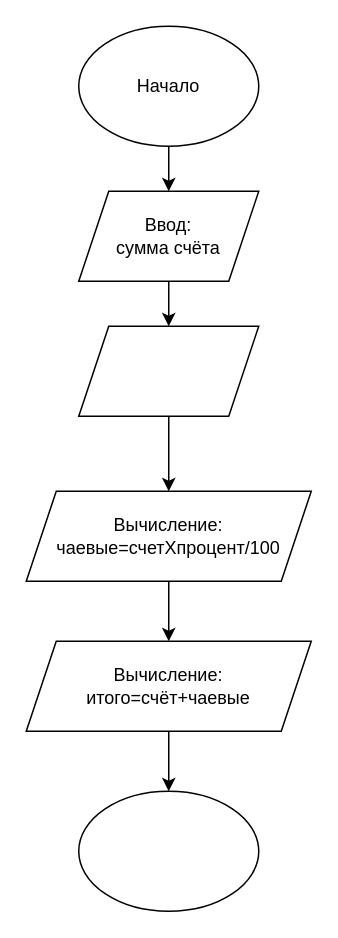
The diagram is 338 pixels wide and 938 high, and some of its shapes have lost their labels. The shapes that lost their labels are listed below. From the top down, each one's box as (x1, y1, x2, y2) in pixels, then its label:
(77, 325, 259, 416): Ввод: процент чаевых
(77, 790, 259, 911): Конец
